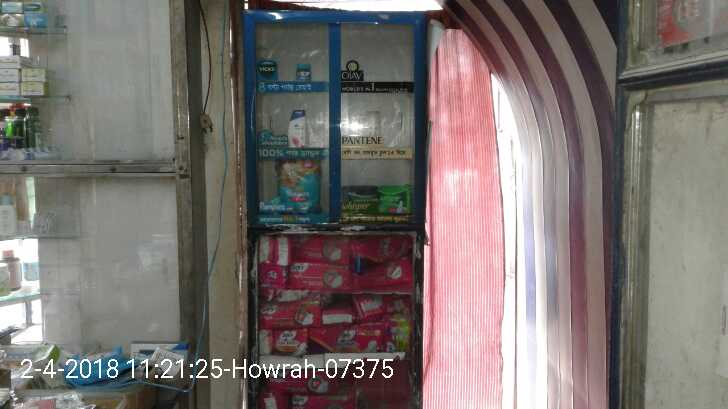vicks: (296, 58, 313, 82)
